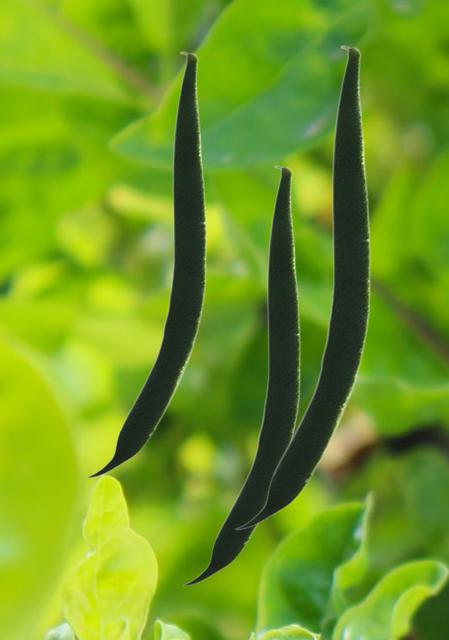french_bean: (234, 45, 369, 529), (86, 51, 205, 477), (182, 165, 299, 585)
